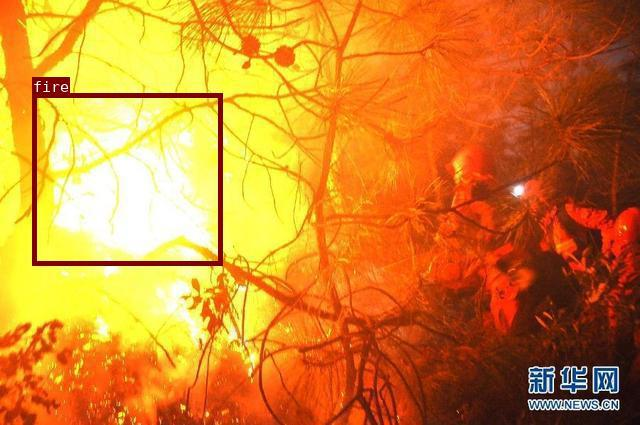fire: (31, 93, 221, 265)
